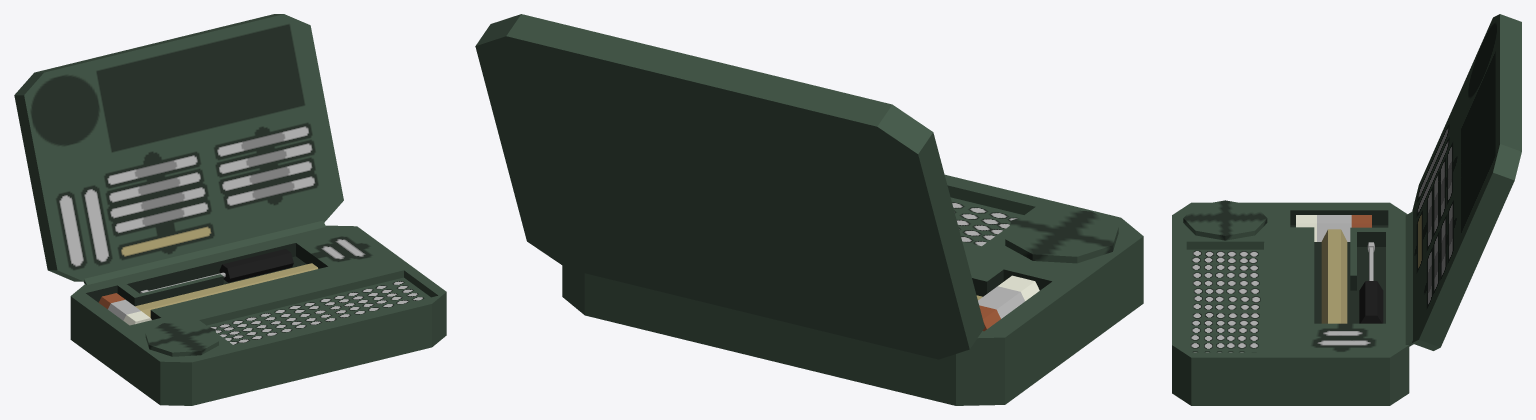
File: GunsmithingTools.fbx
3 renders of one model, left to right at view 1: azimuth 30°, elevation 25°; view 2: azimuth 150°, elevation 25°; view 3: azimuth 270°, elevation 25°, orthographic. The views are drawn at different scales.
Visible parts, largest first — view 1: Cube; view 2: Cube; view 3: Cube.
Boxes of the visible parts, left/top/right/bottom form: Cube: left=14, top=14, right=446, bottom=405; Cube: left=475, top=14, right=1143, bottom=405; Cube: left=1172, top=14, right=1521, bottom=405.
Size of the model in its own units: 0.3359 by 0.2521 by 0.3204.
